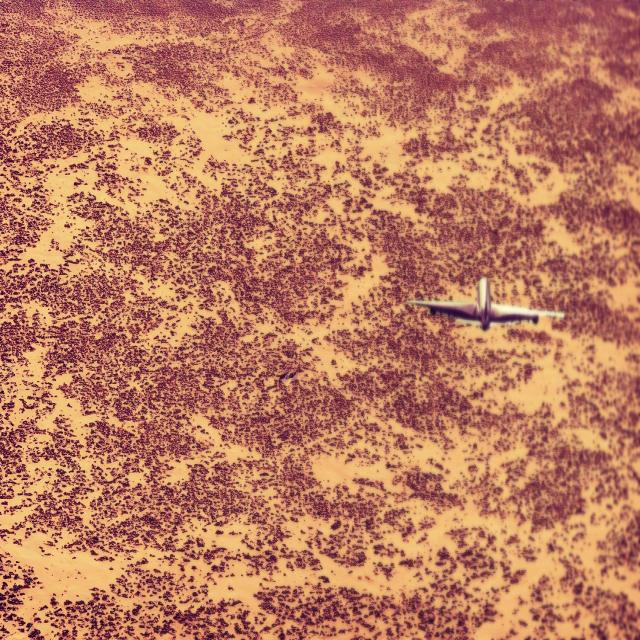airplane: (405, 276, 565, 330)
